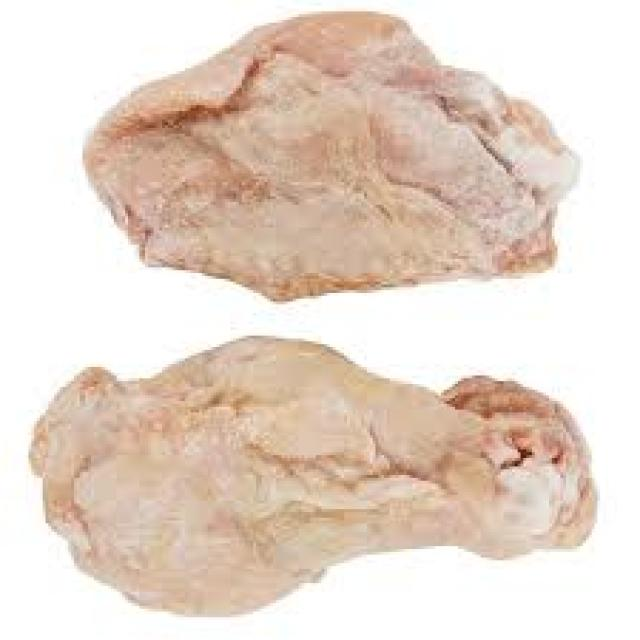Chicken: (24, 333, 605, 629), (79, 7, 585, 304)
